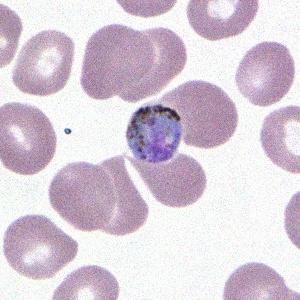Infected: (125, 103, 182, 162)
Uninfected: (80, 24, 152, 101), (160, 80, 237, 149), (118, 26, 186, 101), (48, 161, 119, 232), (2, 214, 75, 280), (94, 157, 148, 234), (0, 102, 56, 175), (12, 30, 74, 95), (235, 42, 297, 106), (137, 153, 205, 207)
